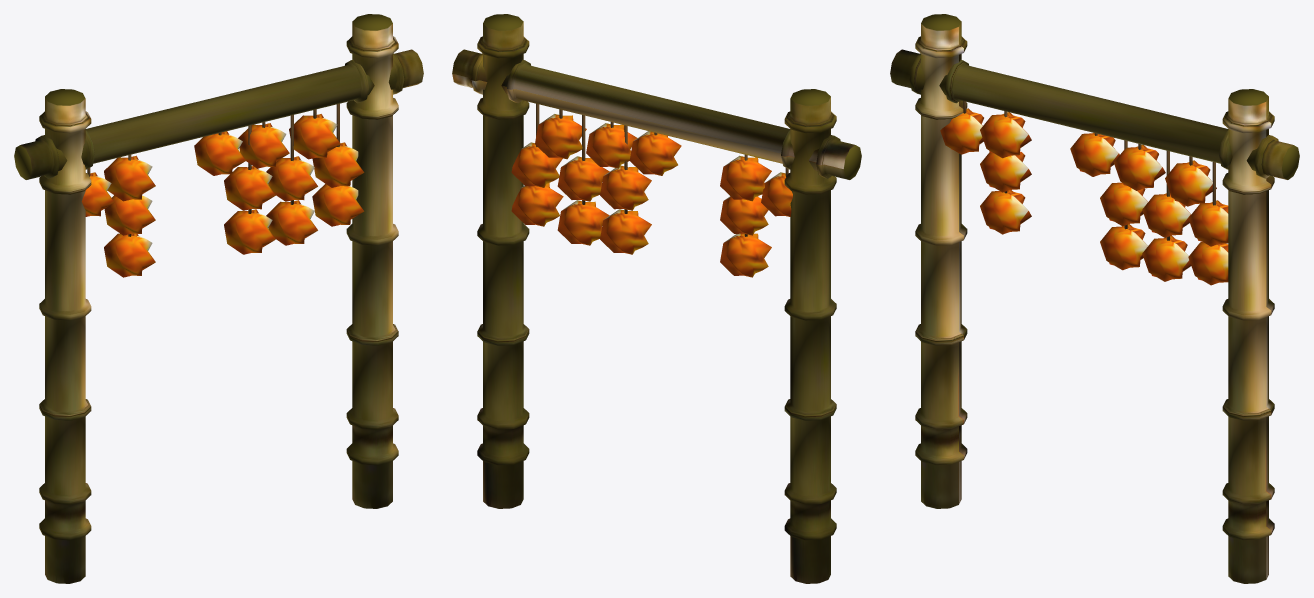
The model's file is toad-prop3d-village-gate.glb.
3 renders of one model, left to right at view 1: azimuth 30°, elevation 25°; view 2: azimuth 150°, elevation 25°; view 3: azimuth 330°, elevation 25°, orthographic.
Visible parts, largest first — view 1: gate; view 2: gate; view 3: gate.
Boxes of the visible parts, box(x1,y1,x2,y2) form: gate: box(14, 14, 423, 583); gate: box(452, 14, 861, 583); gate: box(890, 14, 1299, 583).
Bounding box in the file's own units: 0.3 × 0.35 × 0.0331.
Materials: 1 (1 with a texture image).
